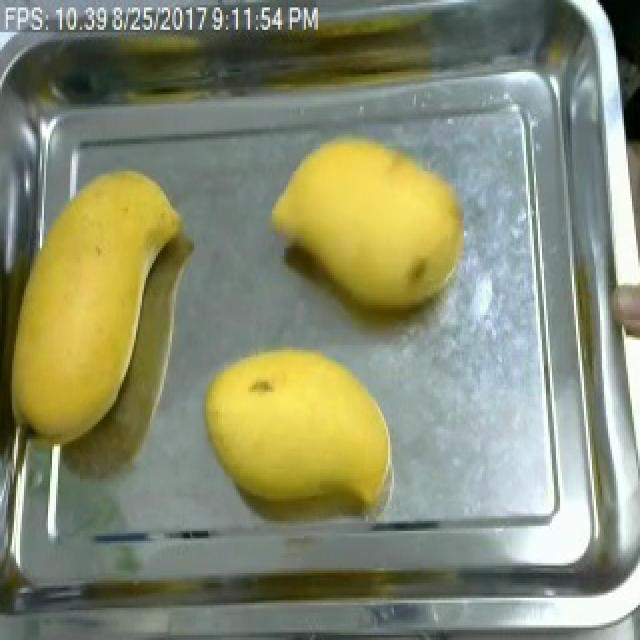fruit: (256, 111, 480, 332), (0, 154, 158, 459), (192, 338, 406, 528)
